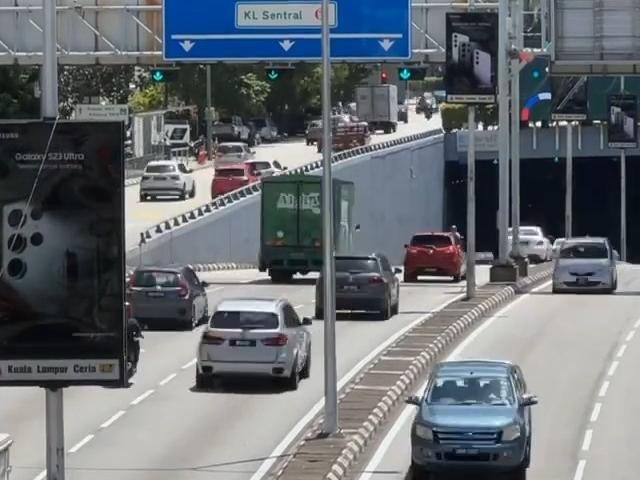car: (413, 359, 535, 480), (193, 300, 317, 393), (123, 262, 218, 333), (318, 252, 398, 323), (548, 238, 622, 300), (406, 229, 464, 282), (139, 160, 193, 203), (205, 137, 256, 170), (211, 164, 247, 200), (508, 227, 549, 256), (244, 156, 281, 184)
truck: (257, 173, 363, 280), (350, 83, 401, 134)
